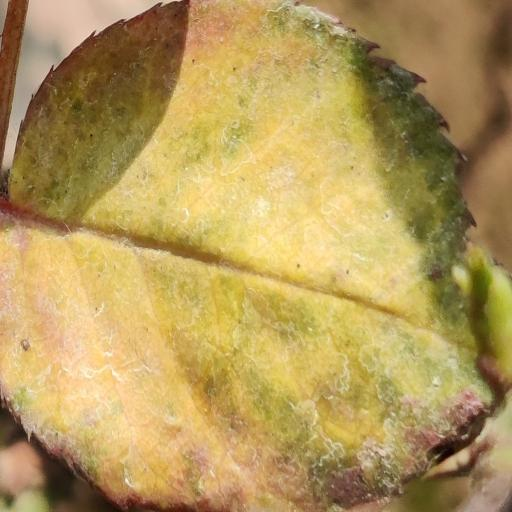red_mite: (0, 0, 492, 511)
